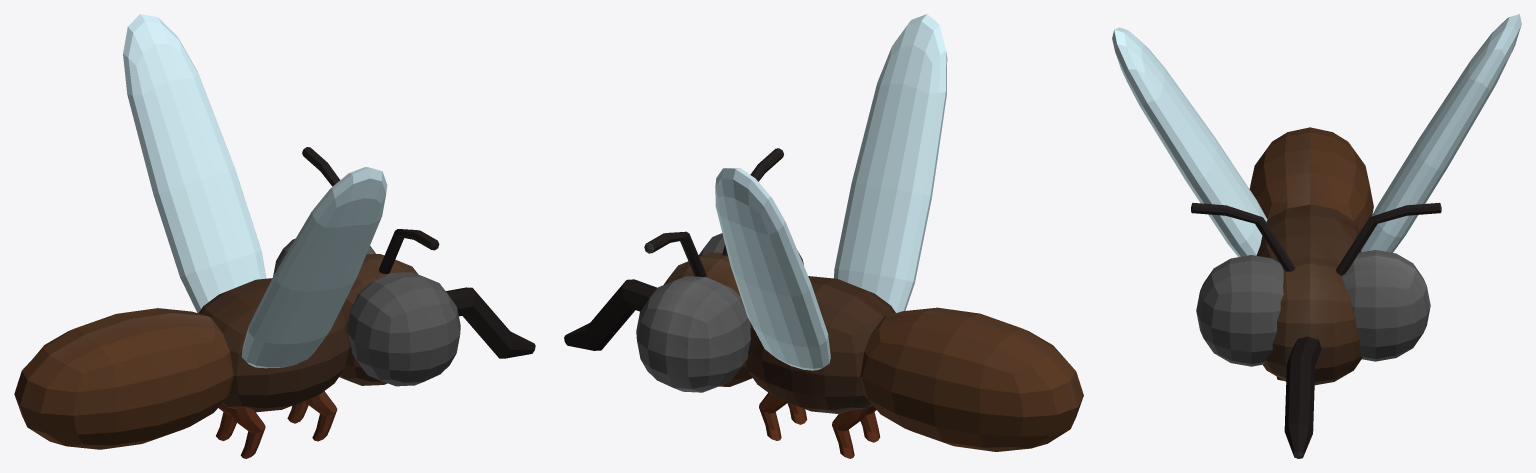
Rendered from mosuito easy.obj.
3 renders of one model, left to right at view 1: azimuth 30°, elevation 25°; view 2: azimuth 150°, elevation 25°; view 3: azimuth 270°, elevation 25°, orthographic. The views are drawn at different scales.
Visible parts, largest first — view 1: Mos-easyThoraax, Mos-easyWingR, Mos-easyWingL, Mos-easy-eyeL, Mos-easyBody, Mos-easyMouth, Mos-easyHead, Mos-easyLegsBL, Mos-easyAntenaL, Mos-easyLegsFL, Mos-easyAntenaR; view 2: Mos-easyThoraax, Mos-easyWingL, Mos-easyWingR, Mos-easy-eyeR, Mos-easyBody, Mos-easyMouth, Mos-easyHead, Mos-easyAntenaR, Mos-easyLegsBR, Mos-easyLegsFR; view 3: Mos-easyWingL, Mos-easyWingR, Mos-easyThoraax, Mos-easyHead, Mos-easy-eyeL, Mos-easy-eyeR, Mos-easyBody, Mos-easyMouth, Mos-easyAntenaR, Mos-easyAntenaL.
Boxes of the visible parts, x1,y1,x2,y2 form: Mos-easyThoraax: (14,308,233,449); Mos-easyWingR: (123,14,266,313); Mos-easyWingL: (241,167,387,368); Mos-easy-eyeL: (347,272,460,386); Mos-easyBody: (198,278,349,412); Mos-easyMouth: (446,287,535,358); Mos-easyHead: (339,254,418,385); Mos-easyLegsBL: (228,406,265,458); Mos-easyAntenaL: (379,229,439,273); Mos-easyLegsFL: (305,391,337,441); Mos-easyAntenaR: (302,147,339,186); Mos-easyThoraax: (860,307,1083,451); Mos-easyWingL: (834,14,947,312); Mos-easyWingR: (715,168,830,370); Mos-easy-eyeR: (636,276,750,392); Mos-easyBody: (745,276,895,414); Mos-easyMouth: (564,279,657,350); Mos-easyHead: (664,252,752,386); Mos-easyAntenaR: (644,231,706,276); Mos-easyLegsBR: (832,407,868,458); Mos-easyLegsFR: (759,392,787,440); Mos-easyWingL: (1112,27,1267,256); Mos-easyWingR: (1361,14,1521,252); Mos-easyThoraax: (1249,127,1373,230); Mos-easyHead: (1263,257,1362,385); Mos-easy-eyeL: (1196,255,1283,366); Mos-easy-eyeR: (1338,250,1430,361); Mos-easyBody: (1256,204,1361,262); Mos-easyMouth: (1284,336,1321,458); Mos-easyAntenaR: (1336,202,1441,275); Mos-easyAntenaL: (1191,203,1295,271).
Bounding box in the file's own units: 358 × 236 × 257.
14 materials, 14 textured.
